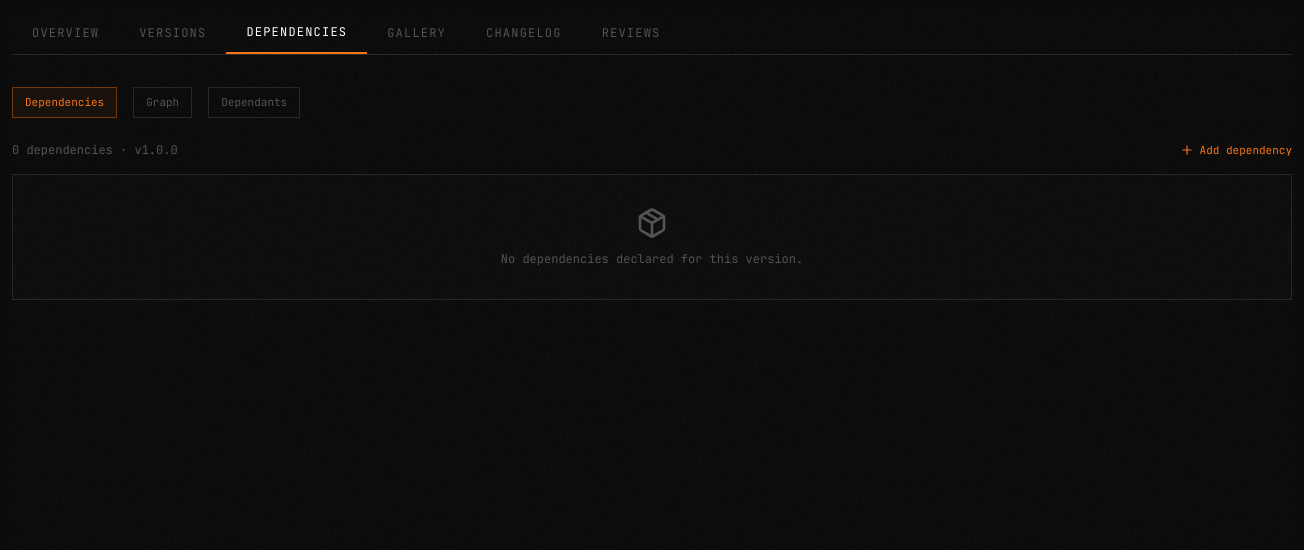
Test case: PluginContent › cancel closes add dependency form
The image size is (1304, 550).
Click the button "Add dependency" at (1236, 150), box [1180,142,1292,158]
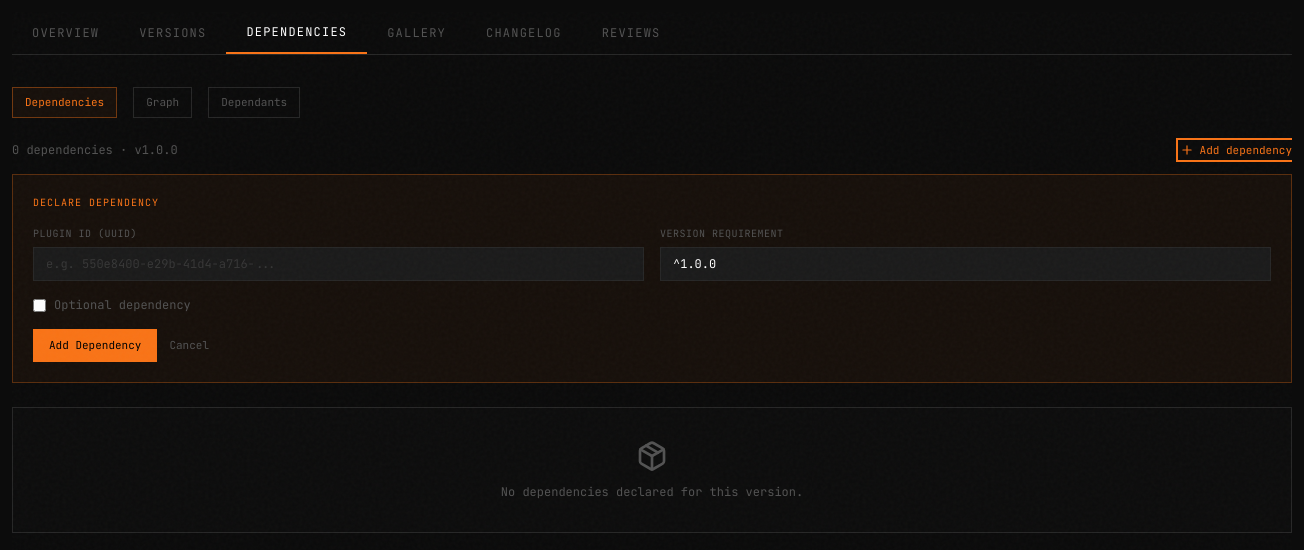
Result: the text "Declare dependency" is shown at [33,196,159,209]
Click the button "Cancel" at (189, 345), box [169,337,209,354]
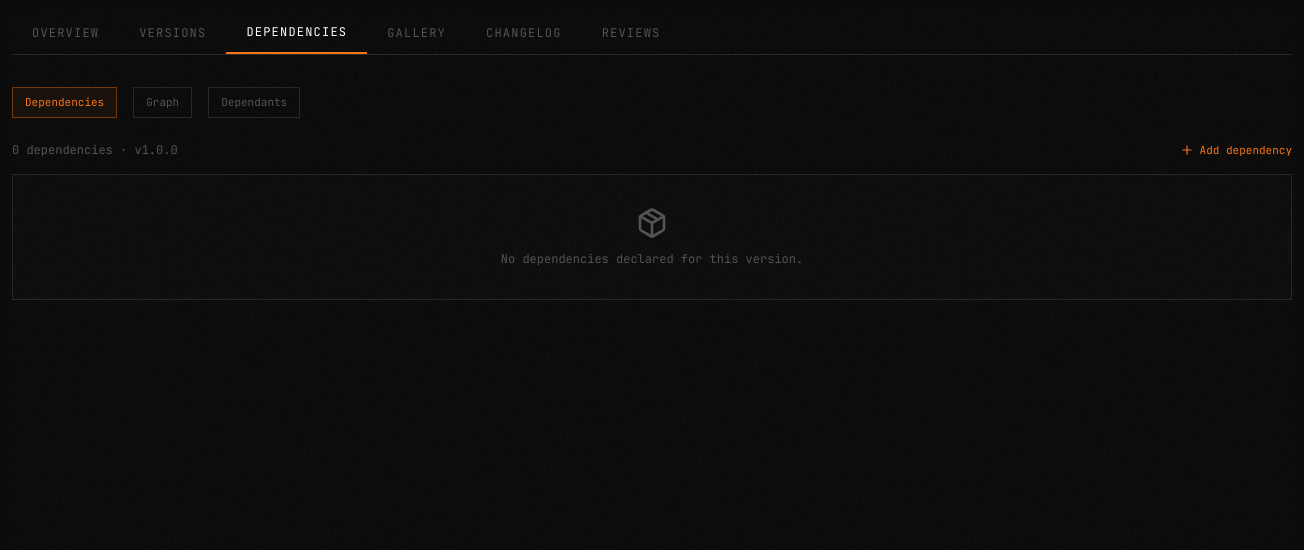
Result: the text "Declare dependency" is gone
